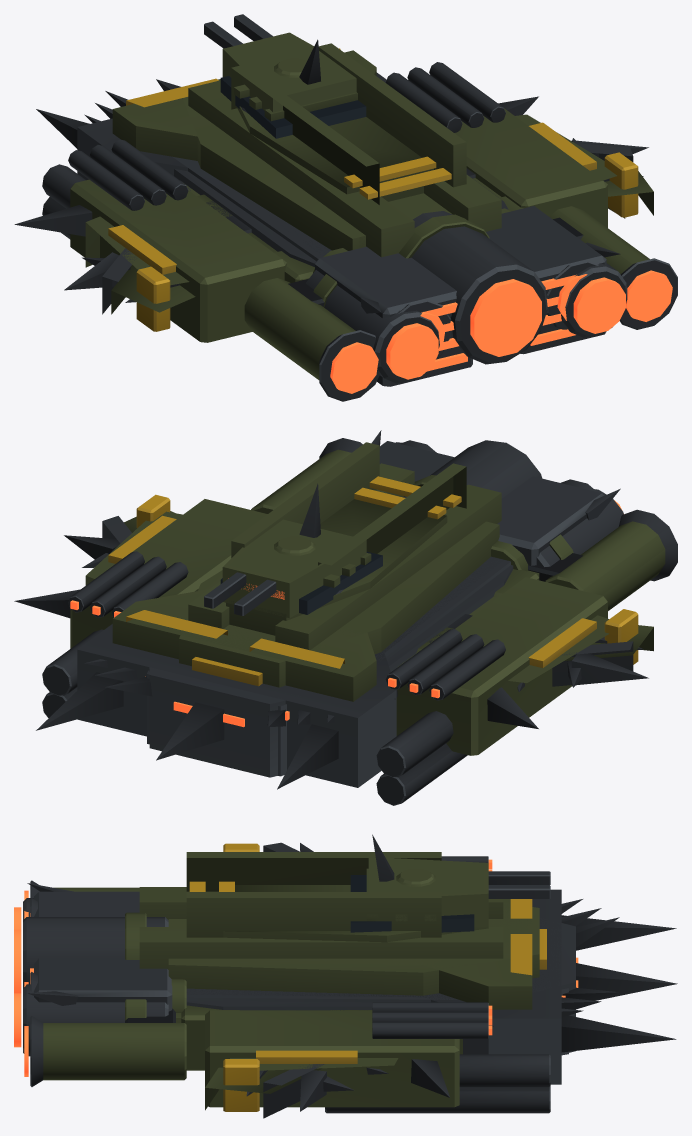
Rendered from hero-ironclad-kit.glb.
The picture shows the model from 3 angles, top to bottom: view 1: azimuth 30°, elevation 25°; view 2: azimuth 150°, elevation 25°; view 3: azimuth 270°, elevation 25°; orthographic projection. The views are drawn at different scales.
Parts seen in each view (by area): view 1: hero_ironclad_wings_c, hero_ironclad_hull_c, hero_ironclad_engines_b, hero_ironclad_hull_a, hero_ironclad_engines_c, hero_ironclad_engines_a, hero_ironclad_hull_b, hero_ironclad_wings_b, hero_ironclad_wings_a, hero_ironclad_cockpit_a, hero_ironclad_cockpit_c, hero_ironclad_cockpit_b; view 2: hero_ironclad_wings_c, hero_ironclad_hull_c, hero_ironclad_hull_b, hero_ironclad_hull_a, hero_ironclad_wings_a, hero_ironclad_engines_c, hero_ironclad_engines_a, hero_ironclad_cockpit_a, hero_ironclad_engines_b, hero_ironclad_wings_b, hero_ironclad_cockpit_b, hero_ironclad_cockpit_c; view 3: hero_ironclad_hull_c, hero_ironclad_wings_c, hero_ironclad_hull_b, hero_ironclad_hull_a, hero_ironclad_engines_c, hero_ironclad_engines_b, hero_ironclad_wings_a, hero_ironclad_engines_a, hero_ironclad_wings_b, hero_ironclad_cockpit_a, hero_ironclad_cockpit_b, hero_ironclad_cockpit_c.
Part boxes in pixels (x1,y1,x2,y2): hero_ironclad_wings_c: [14, 62, 643, 342]; hero_ironclad_hull_c: [84, 43, 523, 282]; hero_ironclad_engines_b: [306, 211, 627, 383]; hero_ironclad_hull_a: [156, 79, 508, 280]; hero_ironclad_engines_c: [244, 206, 677, 401]; hero_ironclad_engines_a: [315, 206, 620, 386]; hero_ironclad_hull_b: [36, 48, 386, 255]; hero_ironclad_wings_b: [82, 138, 653, 331]; hero_ironclad_wings_a: [42, 114, 648, 290]; hero_ironclad_cockpit_a: [222, 32, 356, 112]; hero_ironclad_cockpit_c: [220, 76, 366, 138]; hero_ironclad_cockpit_b: [204, 14, 306, 112]; hero_ironclad_wings_c: [14, 499, 643, 755]; hero_ironclad_hull_c: [84, 442, 539, 777]; hero_ironclad_hull_b: [36, 522, 503, 789]; hero_ironclad_hull_a: [147, 476, 539, 776]; hero_ironclad_wings_a: [42, 511, 648, 805]; hero_ironclad_engines_c: [251, 438, 677, 610]; hero_ironclad_engines_a: [371, 430, 620, 565]; hero_ironclad_cockpit_a: [222, 483, 366, 618]; hero_ironclad_engines_b: [396, 440, 623, 566]; hero_ironclad_wings_b: [82, 494, 653, 691]; hero_ironclad_cockpit_b: [204, 536, 343, 615]; hero_ironclad_cockpit_c: [220, 551, 382, 614]; hero_ironclad_hull_c: [139, 852, 619, 1069]; hero_ironclad_wings_c: [205, 856, 492, 1107]; hero_ironclad_hull_b: [168, 889, 676, 1084]; hero_ironclad_hull_a: [168, 881, 677, 1070]; hero_ironclad_engines_c: [24, 880, 186, 1086]; hero_ironclad_engines_b: [14, 898, 168, 1056]; hero_ironclad_wings_a: [230, 843, 550, 1113]; hero_ironclad_engines_a: [27, 883, 172, 1011]; hero_ironclad_wings_b: [205, 842, 388, 1118]; hero_ironclad_cockpit_a: [368, 834, 488, 927]; hero_ironclad_cockpit_b: [396, 868, 550, 898]; hero_ironclad_cockpit_c: [350, 868, 474, 932].
Bounding box in the file's own units: 1.75 × 0.6086 × 1.82.
